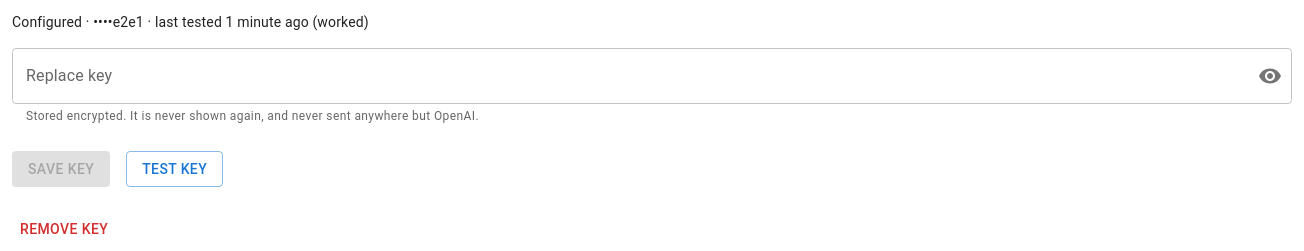
OpenAiKeyForm › the Test button › says why it is unavailable while a key is typed
In the password field labelled "Replace key": (627, 76) x1=12 y1=48 x2=1242 y2=104, type "sk-typed-key-00000000"
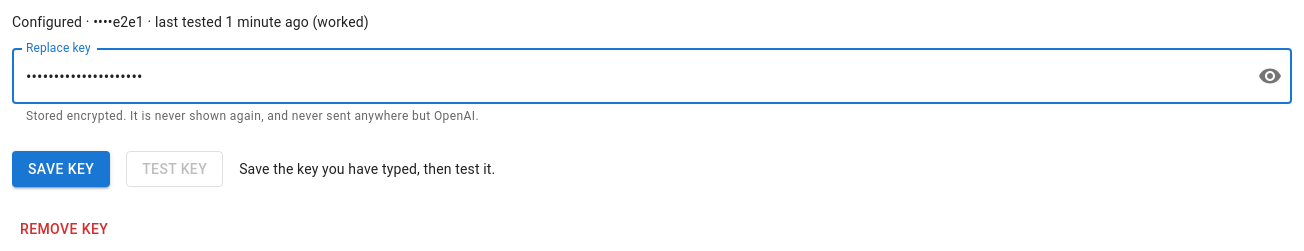
Expected: the button "Test key" is disabled, x1=126 y1=151 x2=223 y2=187
Expected: the text "Save the key you have typed, then test it." is shown, x1=239 y1=159 x2=495 y2=179
